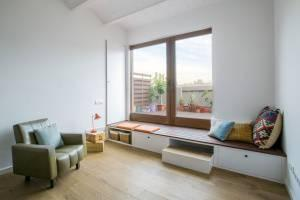window: (127, 29, 215, 126)
